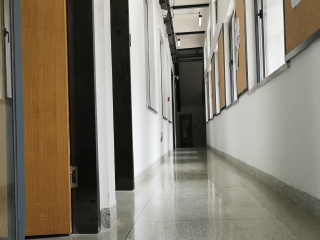room: (1, 3, 102, 238)
